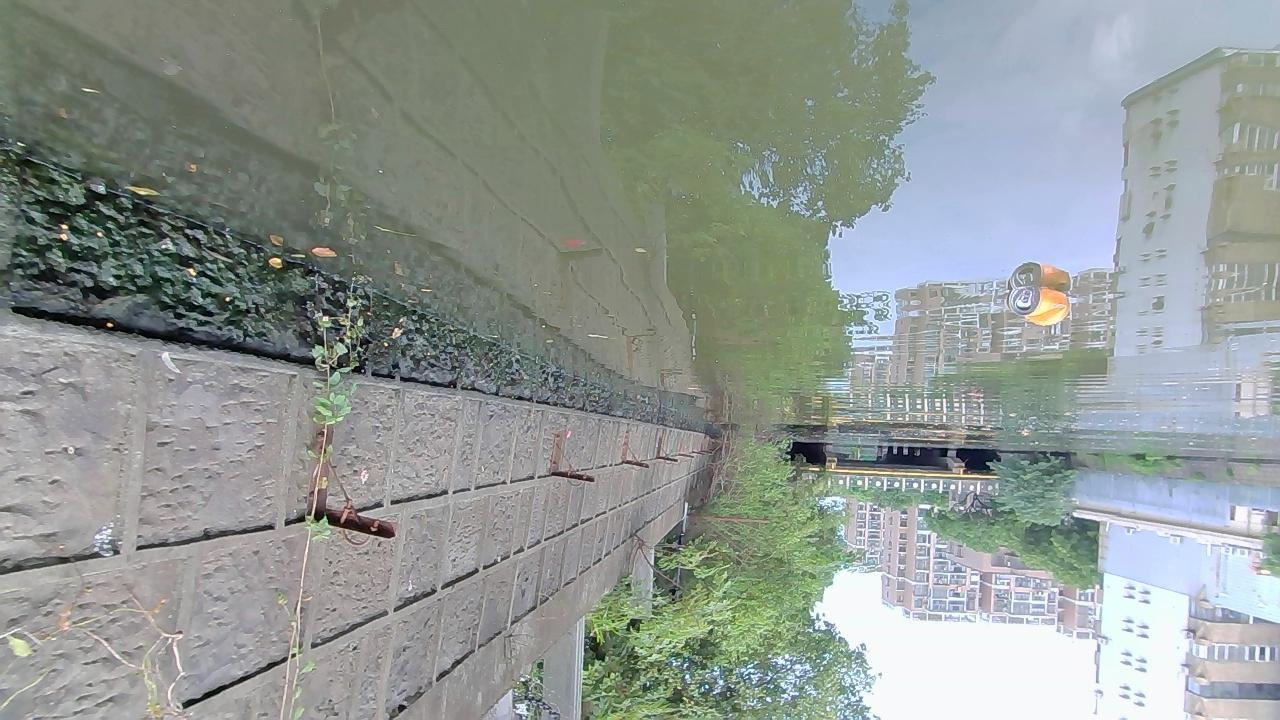Metal: (1006, 285, 1070, 327)
